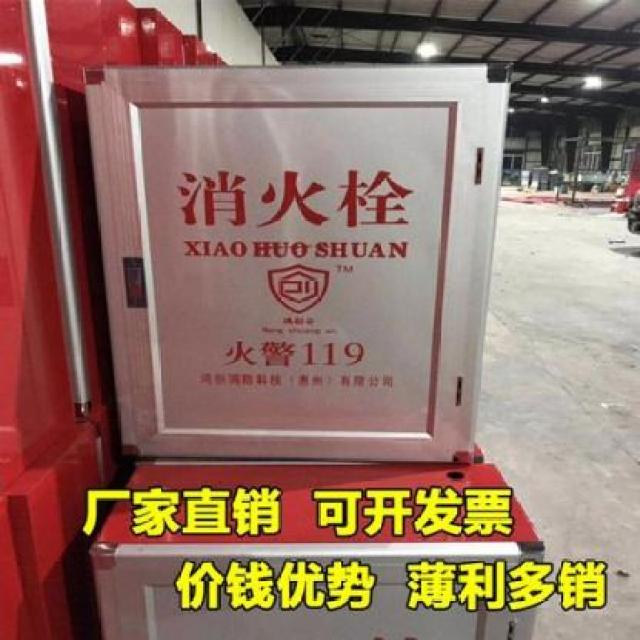firehydrant: (77, 59, 519, 468)
